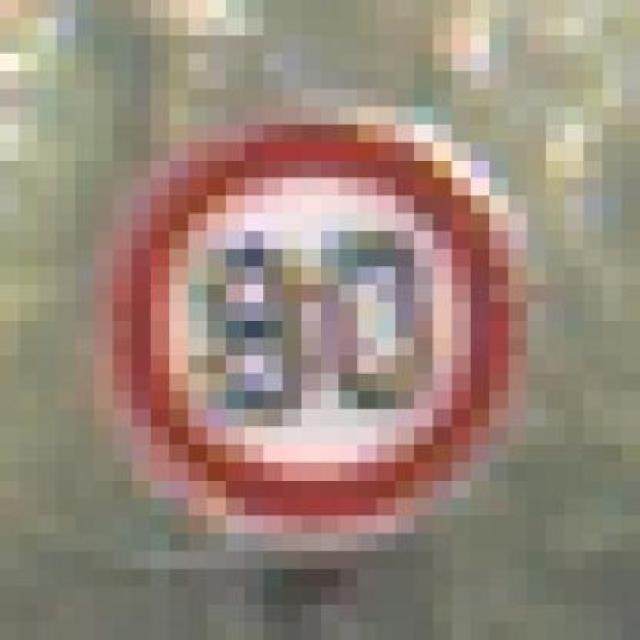forb_speed_over_80: (134, 126, 505, 514)
